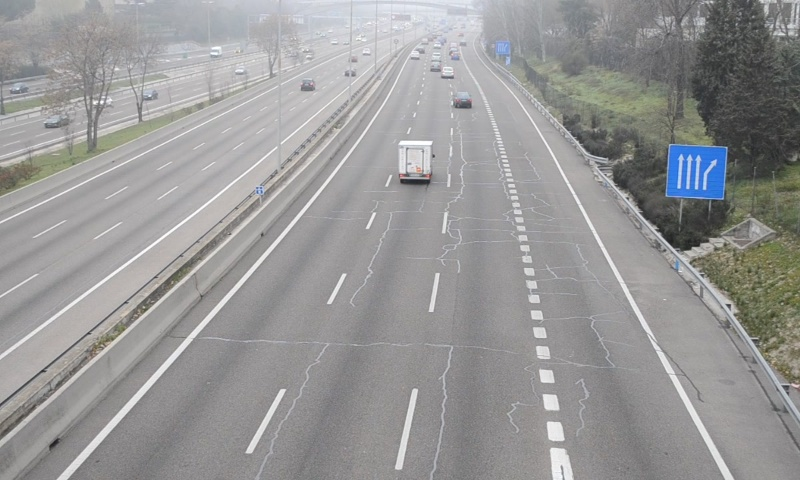car: (452, 89, 472, 109)
small-truck: (397, 139, 433, 180)
